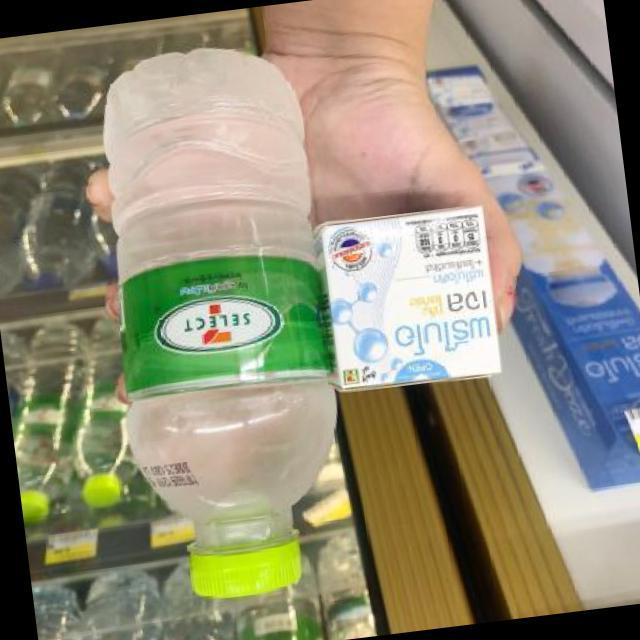good: (86, 18, 367, 620)
